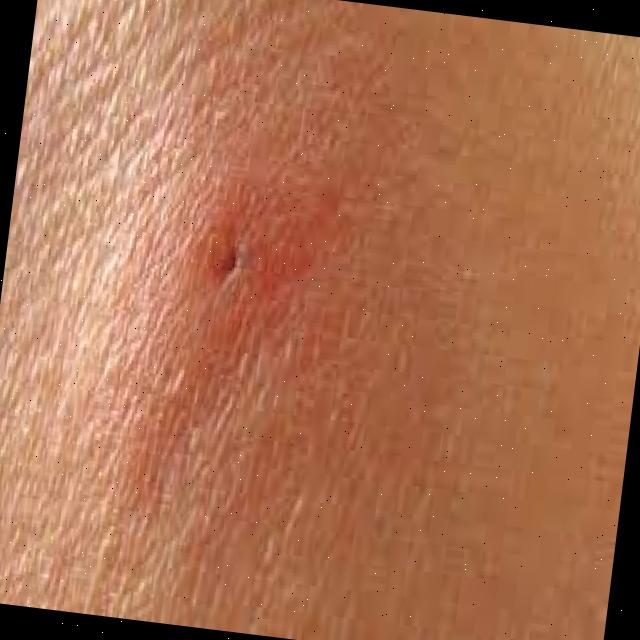kene: (109, 130, 360, 390)
